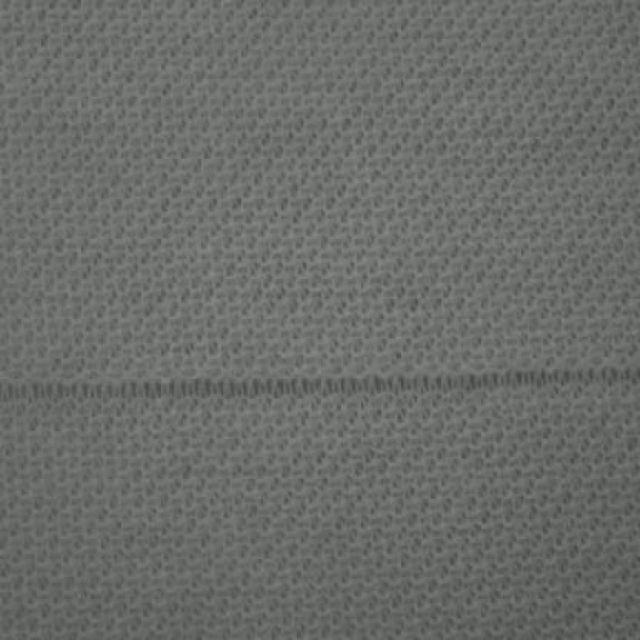Line: (2, 367, 636, 406)
